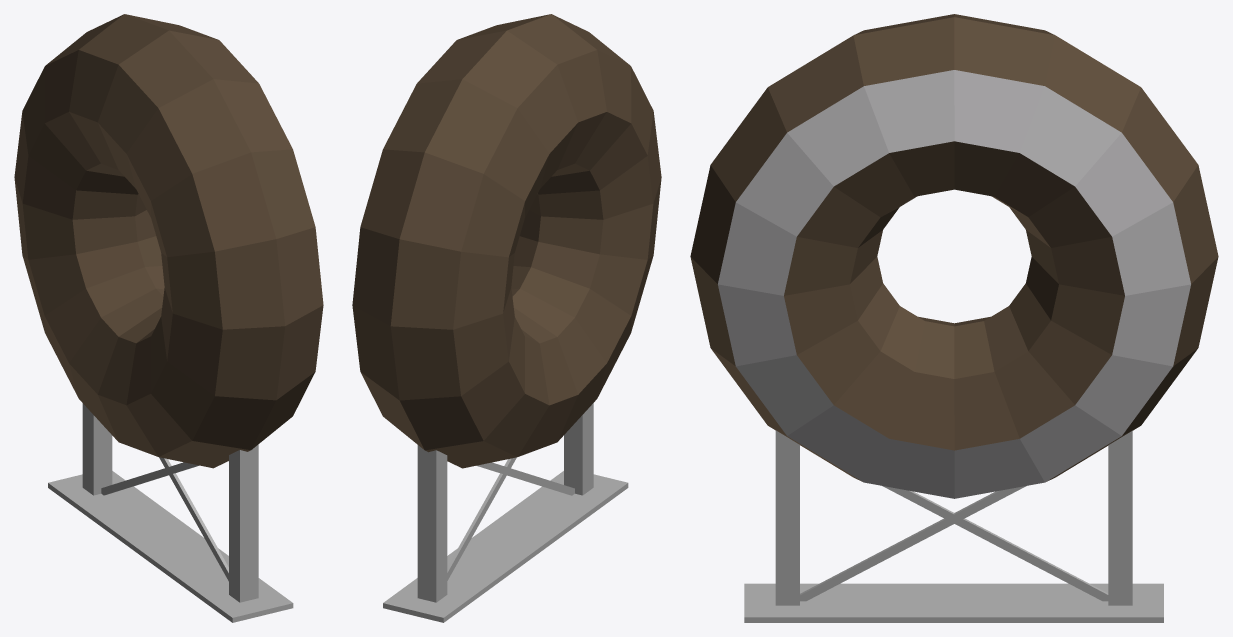
File: SM_roofStand_donut.gltf
3 renders of one model, left to right at view 1: azimuth 30°, elevation 25°; view 2: azimuth 150°, elevation 25°; view 3: azimuth 270°, elevation 25°, orthographic. The views are drawn at different scales.
Parts seen in each view (by area): view 1: SM_roofStand_donut; view 2: SM_roofStand_donut; view 3: SM_roofStand_donut.
Part boxes in pixels (x1,y1,x2,y2): SM_roofStand_donut: (14, 14, 323, 622); SM_roofStand_donut: (352, 14, 661, 622); SM_roofStand_donut: (690, 14, 1218, 622).
Bounding box in the file's own units: 1.55 × 5.43 × 4.39.
Materials: 1 (1 with a texture image).
